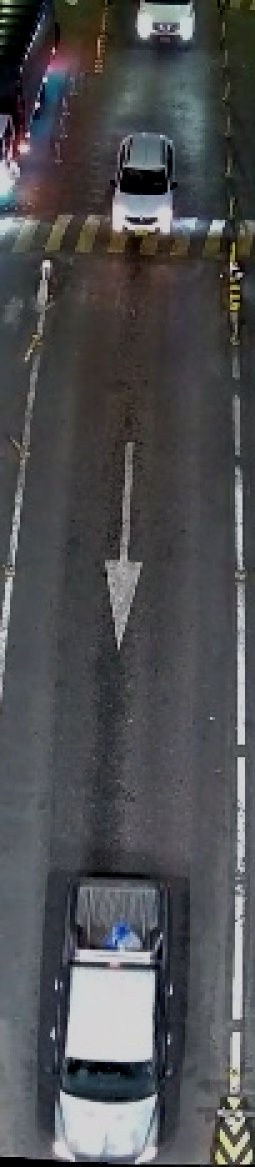car: (38, 866, 186, 1166), (103, 117, 184, 254)
